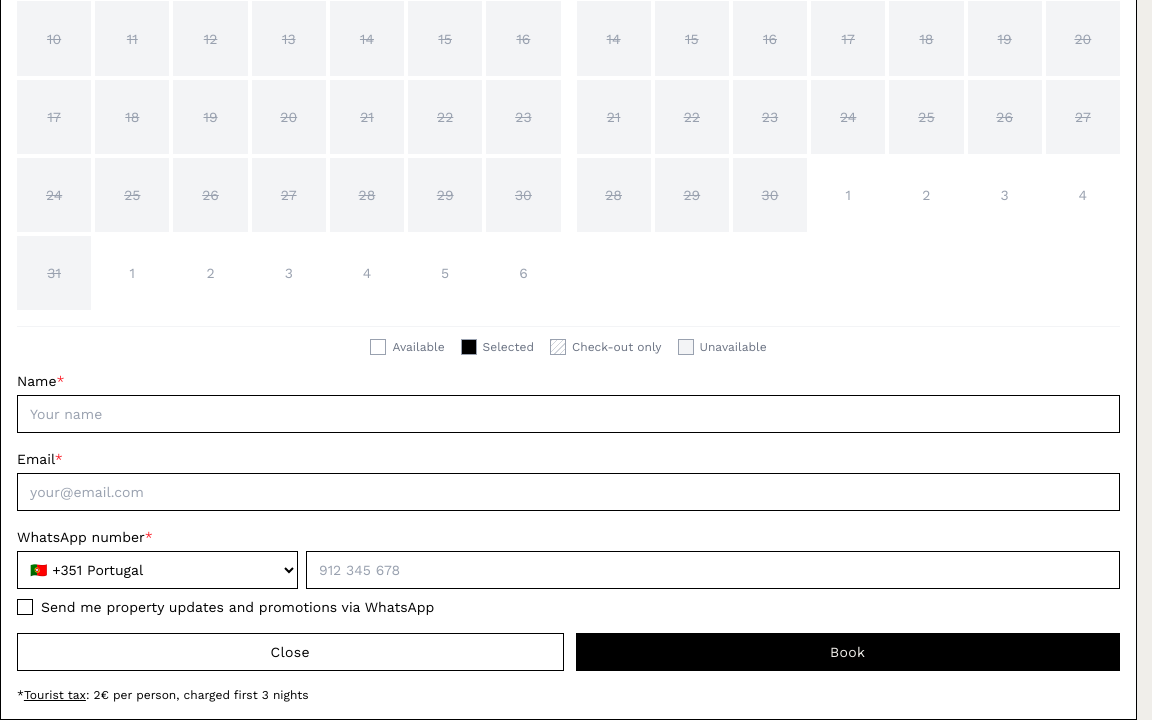
user sees "booking..." while the action is in progress
This screenshot has width=1152, height=720.
(page scrolled)
Expected: the button with aria-label "Confirm booking" is enabled, 576,633 -> 1120,671
Type "Guest Example" into the field labelled "Name*" at (568, 414), box 17,395 -> 1120,433
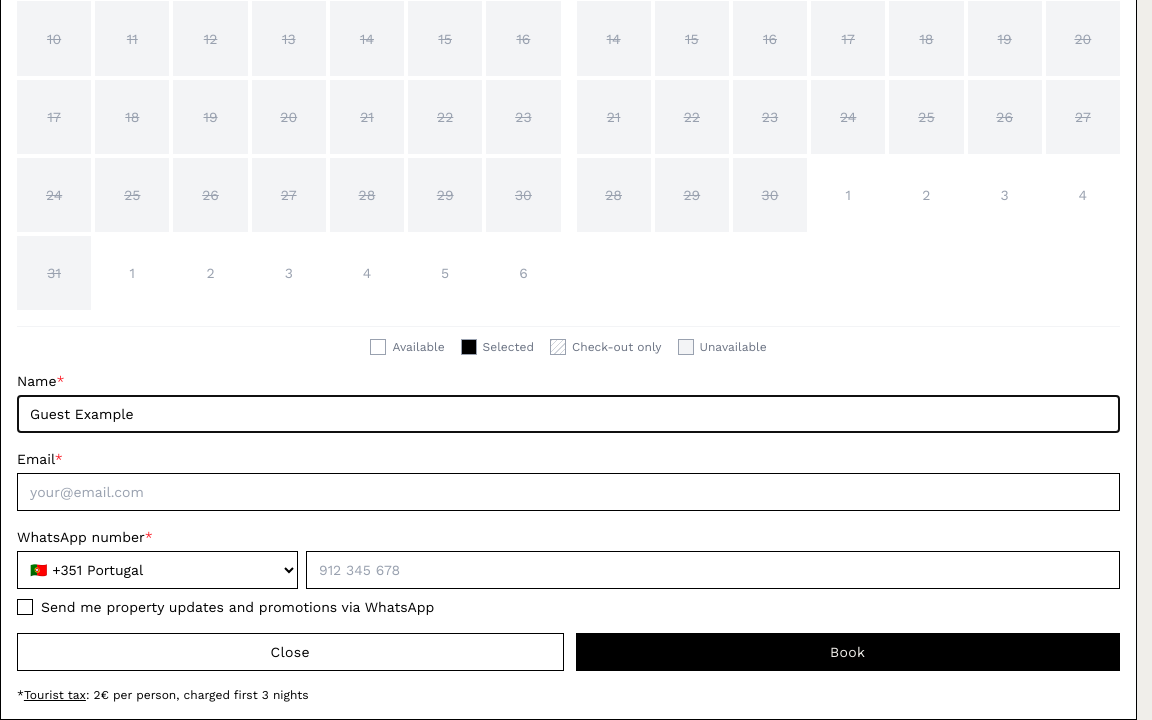
Type "guest@example.com" into the field labelled "Email*" at (568, 492), box 17,473 -> 1120,511
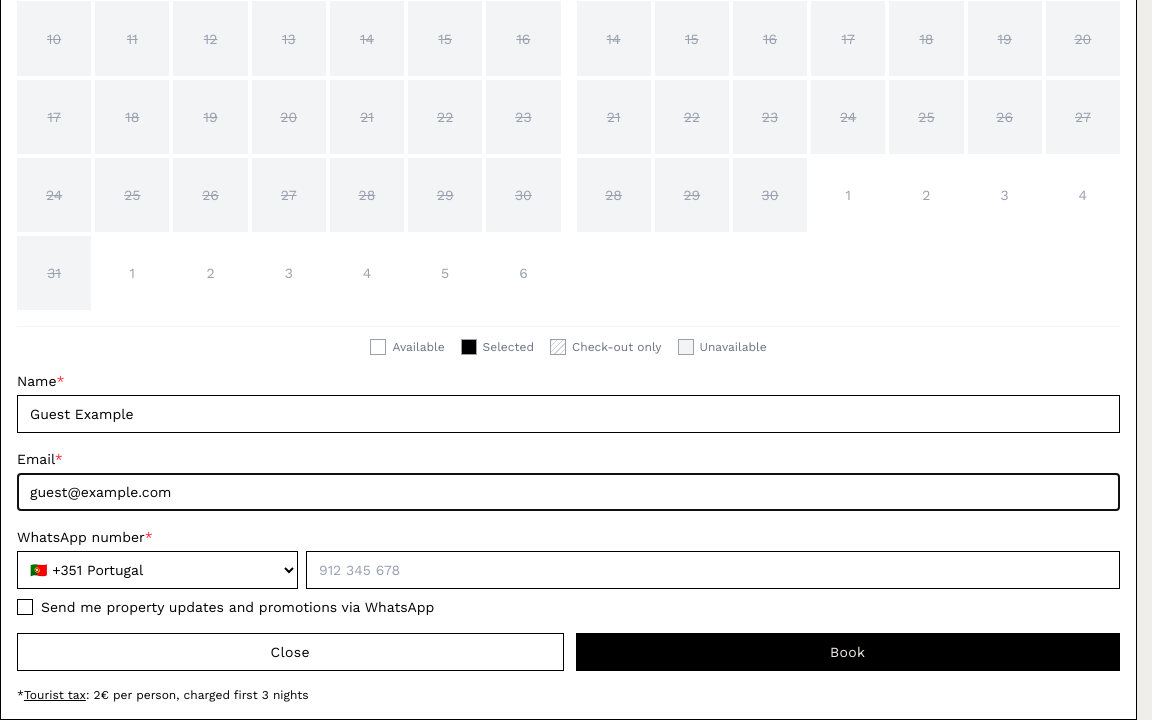
Type "920742845" into the field labelled "WhatsApp number*" at (713, 570), box 306,551 -> 1120,589
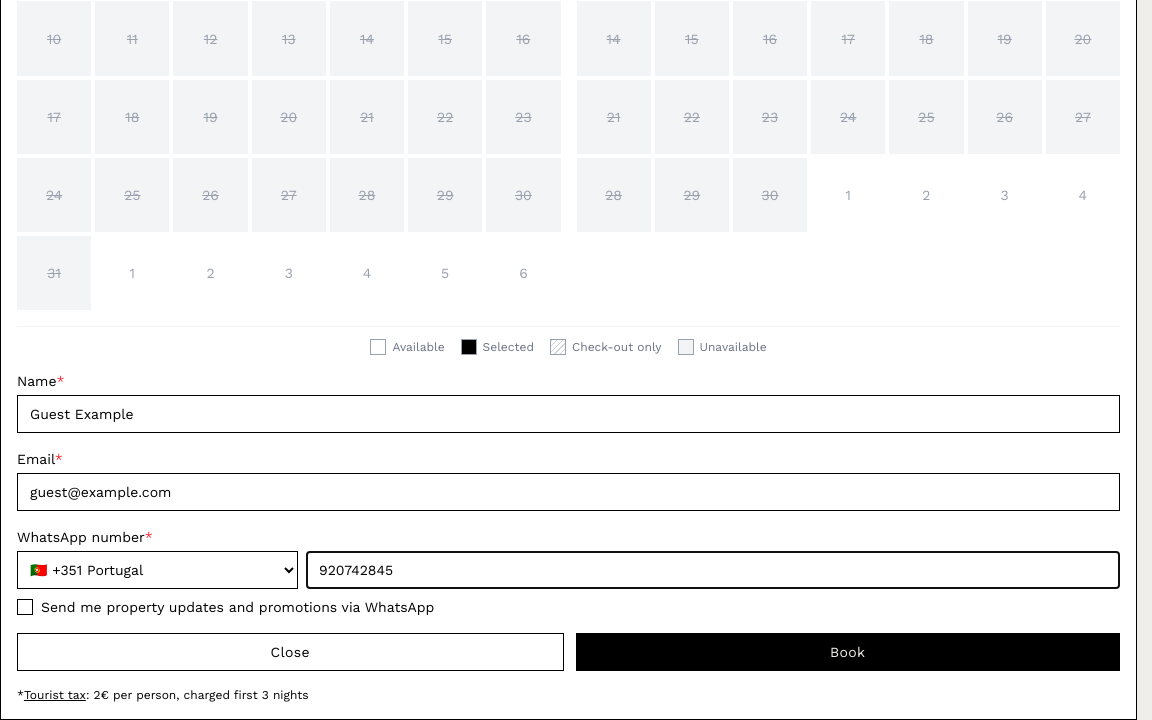
Click the button with aria-label "Confirm booking" at (848, 652), box 576,633 -> 1120,671
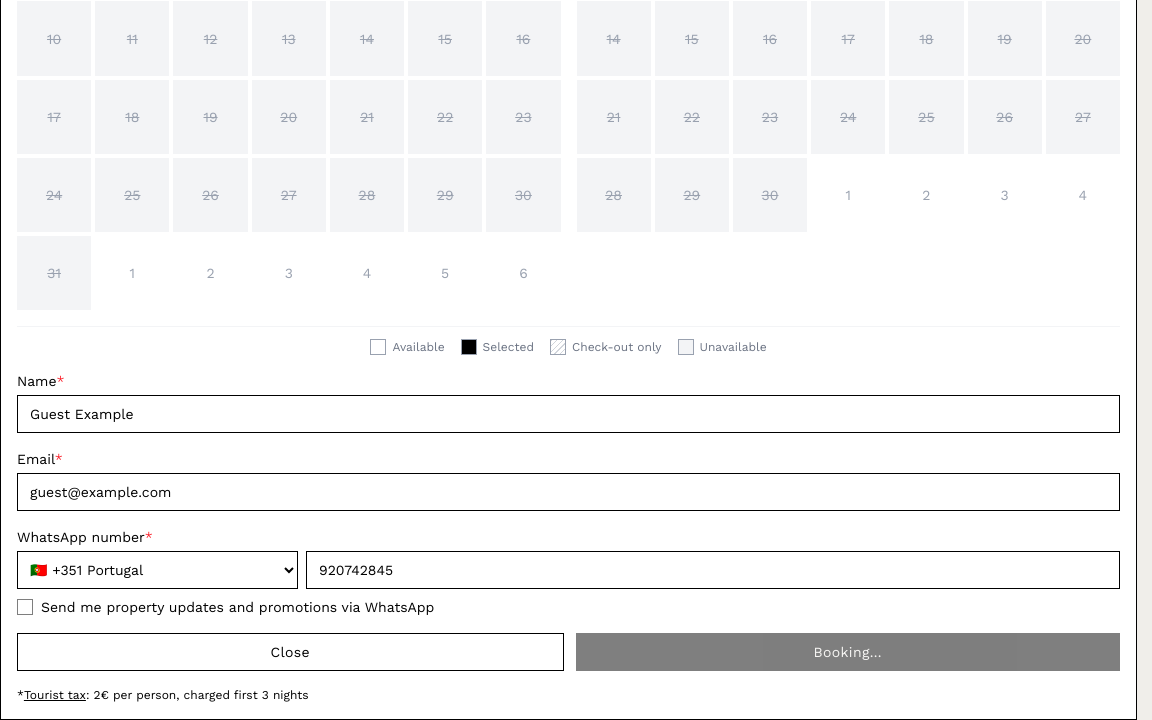
Expected: the button with aria-label "Confirm booking" is disabled, 576,633 -> 1120,671
